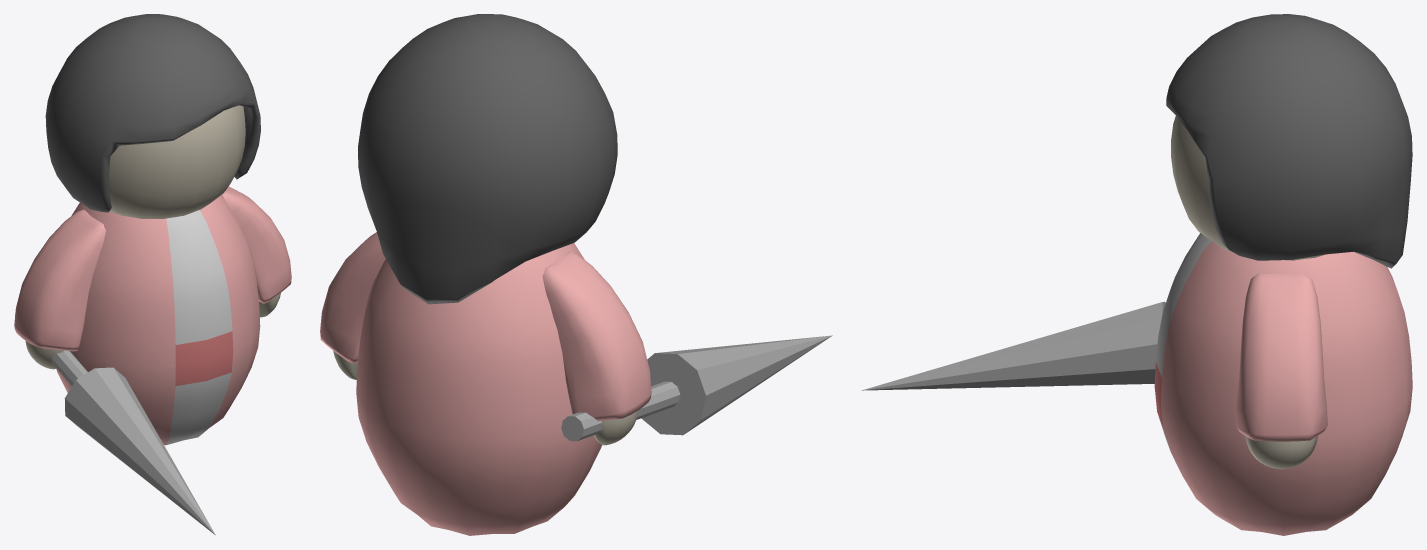
Rendered from Setsuko_Rig.fbx.
3 views of the same model, side by side, from view 1: azimuth 30°, elevation 25°; view 2: azimuth 150°, elevation 25°; view 3: azimuth 270°, elevation 25° (orthographic). The views are drawn at different scales.
Parts seen in each view (by area): view 1: Torso, pasted__Hair, pasted__Head, LeftArm1, pCylinder5, LeftArm; view 2: pasted__Hair, Torso, LeftArm1, pCylinder5, LeftArm; view 3: pasted__Hair, Torso, LeftArm, pCylinder5, pasted__Head.
Part boxes in pixels (x1,y1,x2,y2): Torso: [56, 195, 260, 445]; pasted__Hair: [45, 14, 260, 212]; pasted__Head: [109, 105, 245, 218]; LeftArm1: [14, 209, 105, 369]; pCylinder5: [15, 315, 215, 535]; LeftArm: [222, 186, 291, 317]; pasted__Hair: [358, 14, 617, 304]; Torso: [356, 243, 601, 535]; LeftArm1: [542, 251, 651, 445]; pCylinder5: [561, 335, 832, 441]; LeftArm: [320, 232, 385, 379]; pasted__Hair: [1166, 14, 1412, 268]; Torso: [1154, 233, 1412, 535]; LeftArm: [1235, 273, 1327, 469]; pCylinder5: [861, 301, 1165, 390]; pasted__Head: [1171, 116, 1325, 260].
Size of the model in its own units: 3.4 by 4.95 by 5.09.
